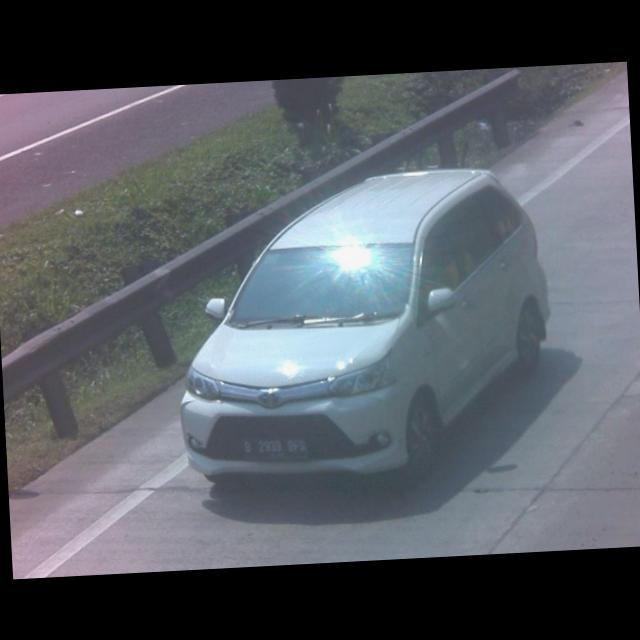plate: (242, 436, 311, 463)
